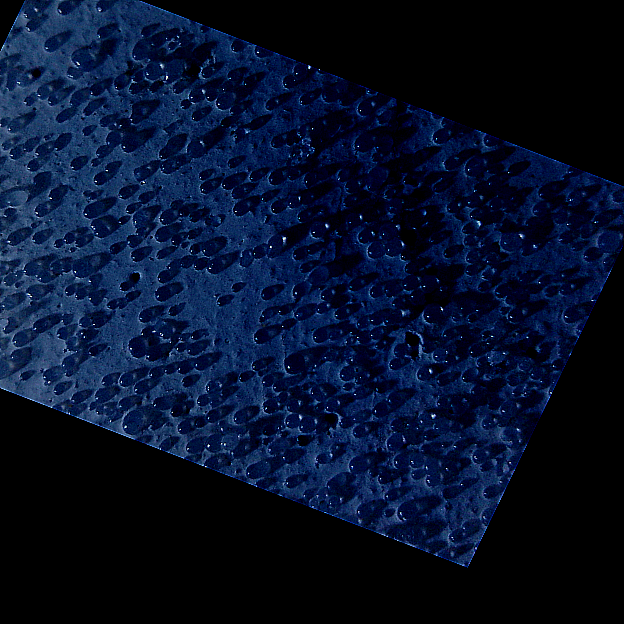GrassBeadSeg: (104, 0, 483, 463), (29, 22, 532, 328), (35, 145, 552, 411), (95, 27, 472, 381), (44, 87, 395, 449), (55, 92, 402, 449), (115, 231, 614, 472), (16, 74, 549, 284), (94, 172, 414, 520), (95, 0, 579, 229), (23, 43, 282, 453), (33, 199, 493, 428), (196, 112, 490, 470), (50, 94, 308, 496), (73, 29, 452, 299), (137, 192, 452, 498), (43, 37, 510, 243), (58, 113, 554, 297), (60, 67, 363, 368), (0, 203, 520, 377), (94, 145, 400, 431), (12, 232, 515, 405), (81, 203, 407, 469), (263, 99, 458, 537), (46, 94, 492, 280), (219, 216, 574, 448), (93, 83, 296, 487), (13, 271, 446, 446), (143, 64, 350, 426), (130, 44, 377, 335), (180, 82, 566, 255), (92, 170, 345, 433), (195, 92, 591, 257), (111, 76, 299, 422), (157, 211, 404, 467), (81, 258, 571, 387), (8, 349, 391, 514), (117, 186, 386, 418), (63, 182, 605, 296), (106, 119, 489, 279), (128, 82, 380, 324), (304, 95, 448, 496), (137, 337, 494, 497), (321, 86, 505, 395), (245, 224, 476, 470), (82, 108, 566, 224), (52, 211, 355, 394), (10, 39, 242, 276), (171, 82, 369, 344), (89, 158, 293, 408), (14, 212, 308, 385), (275, 232, 570, 402), (0, 162, 203, 406), (290, 75, 507, 298), (69, 195, 298, 403), (205, 89, 623, 202), (405, 165, 576, 441), (197, 169, 341, 492), (213, 89, 348, 429), (164, 248, 402, 433), (147, 174, 313, 433), (79, 140, 376, 284), (18, 328, 453, 423), (185, 274, 412, 452), (117, 220, 326, 409), (216, 366, 542, 487), (148, 133, 372, 309), (364, 172, 511, 440), (129, 99, 368, 262), (276, 305, 490, 485), (2, 323, 446, 409), (118, 275, 416, 402), (42, 37, 205, 269), (174, 342, 389, 517), (29, 0, 154, 296), (410, 240, 579, 456), (218, 198, 401, 397), (251, 246, 392, 501), (169, 234, 325, 463), (123, 373, 439, 486), (86, 264, 472, 356), (336, 170, 455, 464), (98, 116, 457, 212), (264, 99, 364, 438), (219, 117, 397, 306), (172, 223, 395, 370), (297, 93, 476, 276), (31, 319, 512, 385), (291, 247, 407, 520), (103, 145, 545, 216), (180, 307, 572, 387), (393, 231, 616, 369), (263, 291, 422, 483), (232, 185, 407, 358), (262, 307, 577, 403), (200, 170, 315, 432), (105, 228, 330, 361), (361, 280, 487, 517), (135, 157, 457, 245), (96, 158, 217, 392), (155, 99, 371, 230), (248, 170, 488, 286), (291, 283, 529, 397), (53, 162, 173, 388), (180, 375, 396, 500), (93, 288, 327, 402), (55, 285, 550, 338), (147, 308, 515, 379), (205, 170, 297, 452), (199, 66, 345, 235), (24, 20, 102, 328), (51, 117, 226, 248), (169, 170, 259, 417), (242, 371, 483, 463), (200, 195, 296, 425), (333, 225, 485, 368), (303, 347, 446, 499), (190, 289, 332, 439), (88, 83, 441, 143), (0, 83, 78, 350), (117, 181, 383, 258), (71, 99, 185, 277), (22, 76, 98, 328), (128, 247, 301, 356), (150, 325, 304, 447), (153, 181, 301, 307), (219, 193, 473, 266), (12, 146, 283, 213), (154, 24, 302, 137), (9, 324, 546, 355), (342, 196, 598, 261), (367, 170, 422, 467), (32, 224, 171, 338), (415, 233, 519, 375), (124, 193, 207, 369), (13, 222, 122, 356), (214, 92, 358, 192), (80, 126, 269, 201), (56, 3, 198, 102), (0, 298, 114, 421), (266, 316, 366, 456), (76, 237, 304, 298), (60, 213, 185, 322), (235, 266, 320, 423), (176, 213, 601, 244), (0, 140, 96, 273), (7, 147, 478, 174), (286, 344, 475, 410), (51, 138, 199, 222), (285, 130, 572, 173), (152, 228, 262, 339), (22, 263, 545, 286), (295, 160, 482, 223), (163, 210, 217, 421), (267, 170, 401, 255), (120, 135, 159, 424), (255, 329, 382, 417), (232, 303, 326, 421), (164, 271, 361, 327), (108, 243, 283, 306), (22, 108, 90, 270), (53, 113, 133, 246), (57, 189, 189, 267), (274, 136, 371, 242), (439, 117, 577, 191), (63, 330, 196, 406), (385, 247, 448, 406), (221, 94, 256, 370), (78, 393, 515, 415), (67, 96, 145, 218), (154, 212, 359, 258), (33, 204, 203, 259), (313, 313, 389, 433), (157, 147, 353, 193), (390, 171, 449, 323), (338, 229, 397, 380), (204, 245, 260, 403), (139, 326, 446, 353), (226, 130, 447, 166), (163, 363, 517, 385), (124, 204, 158, 429), (104, 130, 235, 188), (388, 276, 437, 430), (244, 318, 291, 477), (308, 373, 442, 428), (524, 256, 608, 341), (292, 169, 479, 207), (431, 182, 468, 370), (308, 119, 412, 185), (180, 48, 255, 139), (26, 361, 442, 377), (259, 286, 441, 322), (307, 268, 435, 319), (25, 159, 282, 184), (409, 183, 483, 264), (186, 100, 220, 274), (117, 367, 429, 385), (269, 135, 309, 272), (257, 282, 391, 322), (33, 1, 66, 158), (352, 283, 396, 399), (143, 167, 177, 315), (123, 291, 165, 408), (474, 304, 565, 356), (282, 382, 385, 427), (372, 312, 479, 355), (523, 217, 612, 267), (86, 113, 140, 195), (3, 81, 78, 139), (462, 164, 515, 246), (469, 343, 548, 396), (384, 114, 420, 230), (298, 190, 618, 203), (453, 157, 552, 199), (420, 306, 507, 353), (354, 503, 461, 541), (371, 465, 422, 543), (315, 325, 378, 387), (18, 371, 272, 386), (174, 105, 238, 164), (349, 383, 441, 424), (2, 238, 83, 284), (20, 7, 146, 36), (261, 199, 278, 412), (311, 327, 394, 370), (156, 270, 379, 286), (450, 330, 557, 363), (418, 462, 469, 531), (231, 200, 270, 288), (259, 192, 273, 435), (369, 151, 417, 221), (281, 74, 294, 321), (47, 126, 90, 200), (216, 185, 243, 302), (443, 428, 513, 473), (419, 274, 447, 386), (40, 316, 89, 380), (464, 175, 500, 262), (114, 111, 183, 156), (316, 327, 340, 456), (85, 190, 174, 224), (192, 372, 248, 426), (0, 1, 42, 72), (92, 172, 105, 393), (24, 283, 65, 351), (202, 397, 241, 468), (283, 301, 321, 373), (479, 400, 518, 468), (159, 160, 176, 307), (406, 247, 453, 300), (132, 158, 237, 180), (458, 439, 506, 487), (189, 109, 198, 354), (185, 342, 261, 371), (3, 120, 32, 196), (145, 349, 166, 451), (526, 189, 580, 228), (283, 381, 383, 402), (214, 380, 309, 402), (409, 441, 463, 479), (304, 429, 430, 445), (384, 197, 402, 307), (35, 232, 73, 283), (68, 131, 117, 170), (293, 64, 321, 132), (390, 188, 428, 238), (220, 80, 258, 129), (320, 402, 361, 446), (334, 465, 374, 507), (51, 331, 90, 373), (399, 215, 435, 260), (36, 83, 140, 98), (1, 122, 17, 218), (525, 330, 561, 370), (272, 381, 320, 411), (492, 377, 542, 404), (313, 444, 337, 500), (0, 176, 44, 206), (382, 157, 411, 199), (166, 229, 195, 270), (167, 441, 241, 457), (540, 338, 564, 386), (34, 140, 65, 175), (436, 209, 479, 233), (168, 199, 194, 238), (492, 256, 528, 284), (177, 205, 198, 253), (61, 218, 100, 243), (227, 76, 253, 113), (148, 330, 198, 349), (56, 261, 95, 285), (291, 128, 324, 156), (486, 174, 521, 200), (331, 350, 350, 389), (292, 306, 307, 354), (385, 118, 450, 128), (93, 274, 129, 292), (42, 346, 70, 369), (419, 422, 439, 454), (77, 291, 98, 321), (215, 282, 240, 306), (141, 26, 178, 41), (146, 32, 175, 51), (144, 46, 180, 61), (105, 291, 133, 310), (430, 341, 451, 365), (565, 240, 580, 271), (527, 269, 568, 280), (87, 400, 112, 416), (501, 167, 518, 190), (473, 238, 489, 262), (479, 329, 497, 346), (357, 328, 382, 340), (374, 113, 397, 126), (226, 69, 249, 82), (318, 490, 335, 507), (486, 199, 510, 211), (177, 205, 195, 221), (402, 249, 414, 272), (483, 241, 494, 265), (168, 31, 185, 46), (43, 260, 55, 280), (11, 331, 26, 345), (86, 401, 103, 413), (508, 191, 518, 211), (423, 215, 434, 232), (198, 181, 212, 194), (367, 284, 381, 297), (460, 223, 471, 239), (5, 232, 18, 245), (492, 188, 506, 200), (138, 309, 150, 322), (428, 234, 439, 244), (5, 125, 18, 133), (37, 369, 42, 373)
